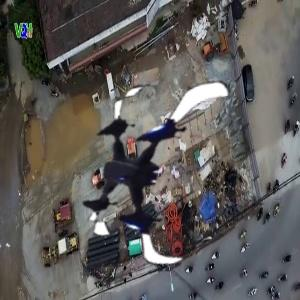drone: (55, 82, 246, 273)
